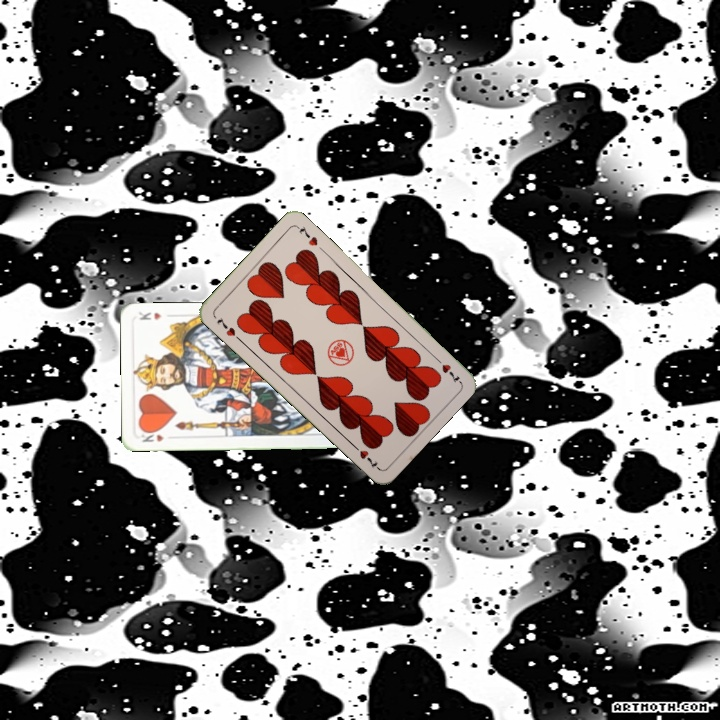H7: (430, 353, 463, 385), (213, 314, 244, 344)
HK: (136, 427, 166, 444)
